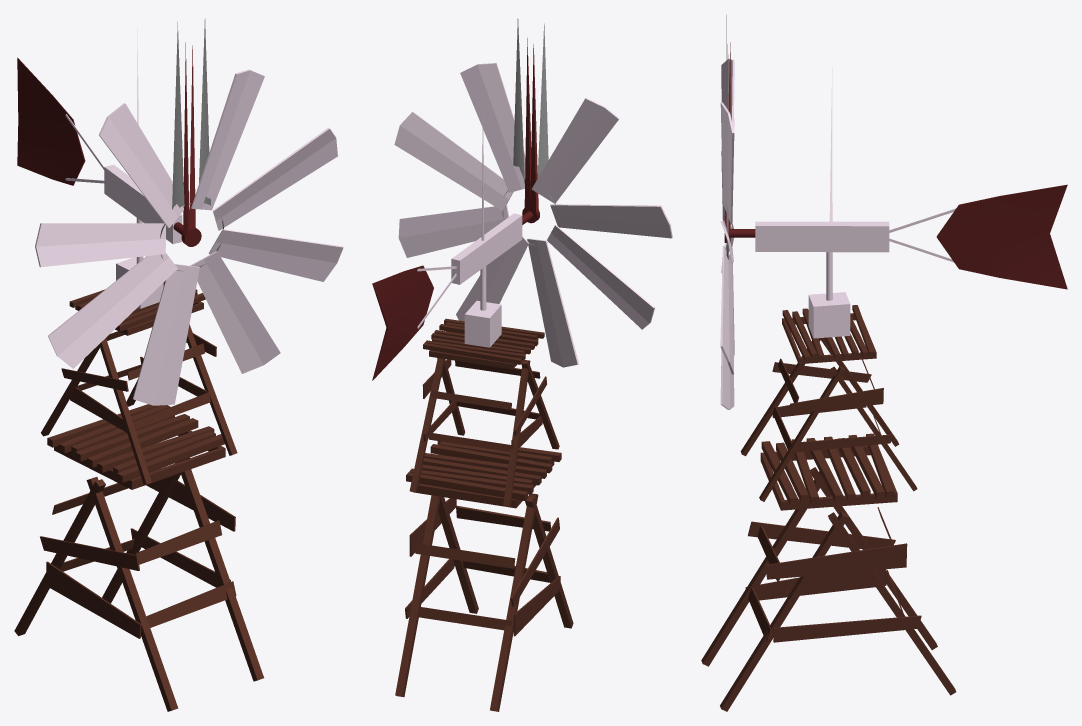
The model's file is Wind.fbx.
The picture shows the model from 3 angles, left to right: view 1: azimuth 30°, elevation 25°; view 2: azimuth 150°, elevation 25°; view 3: azimuth 270°, elevation 25°; orthographic projection. The views are drawn at different scales.
Visible parts, largest first — view 1: Box495, Box491, Box490, Box492, Box489, Box488, Box493, Box487, Box486, Box414, Box412, Circle002 (+27 smaller); view 2: Box487, Box486, Box495, Box493, Box488, Box492, Box490, Box491, Box494, Circle002, Box415, Box413 (+30 smaller); view 3: Box495, Box494, Box425, Box426, Box412, Box427, Box500, Box414, Box411, Box413, Box428, Box488 (+19 smaller).
Part boxes in pixels (x1,y1,x2,y2): Box495: (17,57,85,185); Box491: (48,253,177,368); Box490: (132,264,199,405); Box492: (35,223,165,267); Box489: (190,251,280,373); Box488: (208,229,343,281); Box493: (99,103,183,227); Box487: (212,127,337,230); Box486: (191,69,264,210); Box414: (86,477,178,711); Box412: (180,469,263,681); Circle002: (160,18,223,271); Box487: (394,112,513,210); Box486: (460,63,525,192); Box495: (372,265,433,380); Box493: (531,97,619,202); Box488: (398,205,509,257); Box492: (550,204,672,238); Box490: (527,238,578,367); Box491: (547,225,654,329); Box494: (451,213,522,284); Circle002: (502,18,560,245); Box415: (490,493,538,711); Box413: (395,495,440,696); Box495: (936,184,1067,289); Box494: (755,221,889,252); Box425: (766,543,907,579); Box426: (773,615,921,642); Box412: (720,512,848,711); Box427: (745,569,886,600); Box500: (808,292,850,338); Box414: (701,471,824,666); Box411: (760,445,897,510); Box413: (828,512,956,695); Box428: (748,521,895,549); Box488: (720,245,733,374).
Bounding box in the file's own units: 657 × 1402 × 707.
